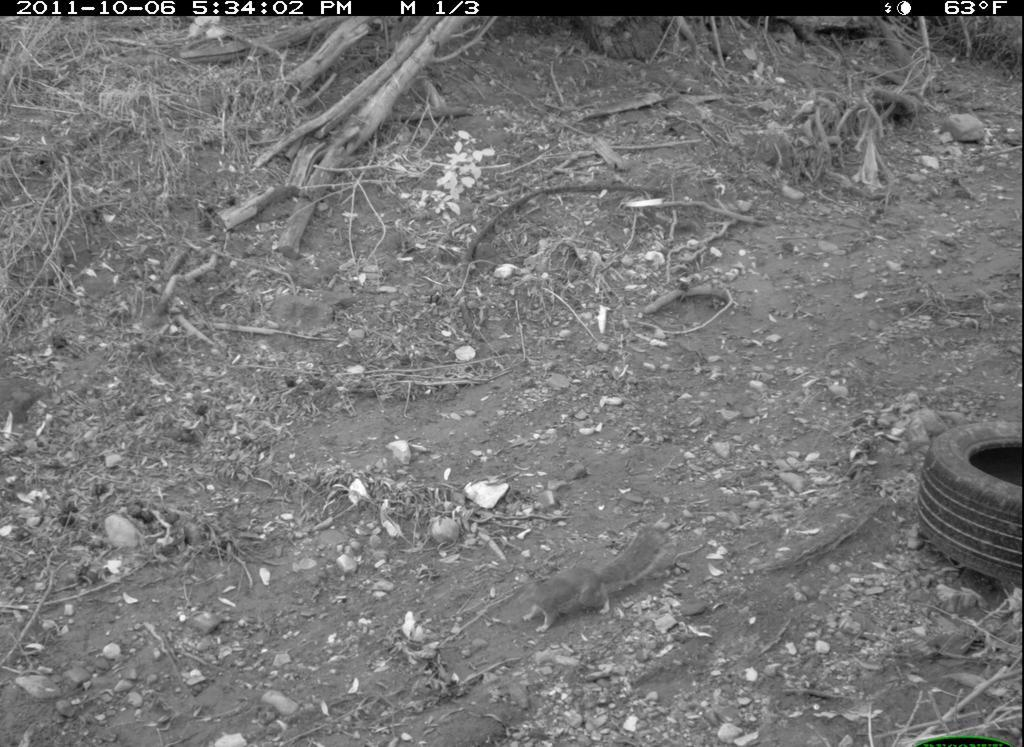squirrel: (501, 507, 680, 641)
